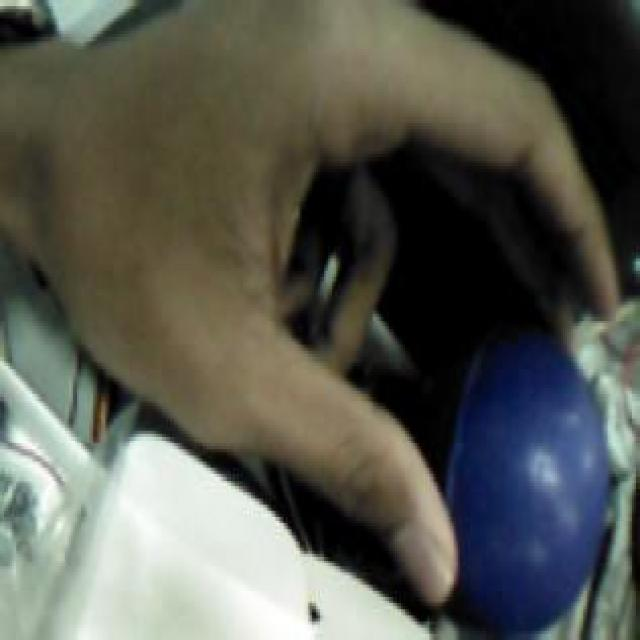BallPurple: (413, 317, 607, 634)
